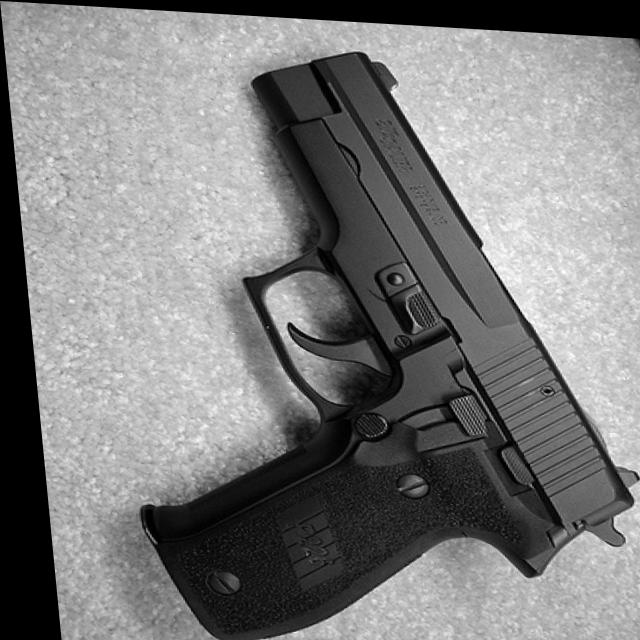handgun: (88, 23, 640, 640)
